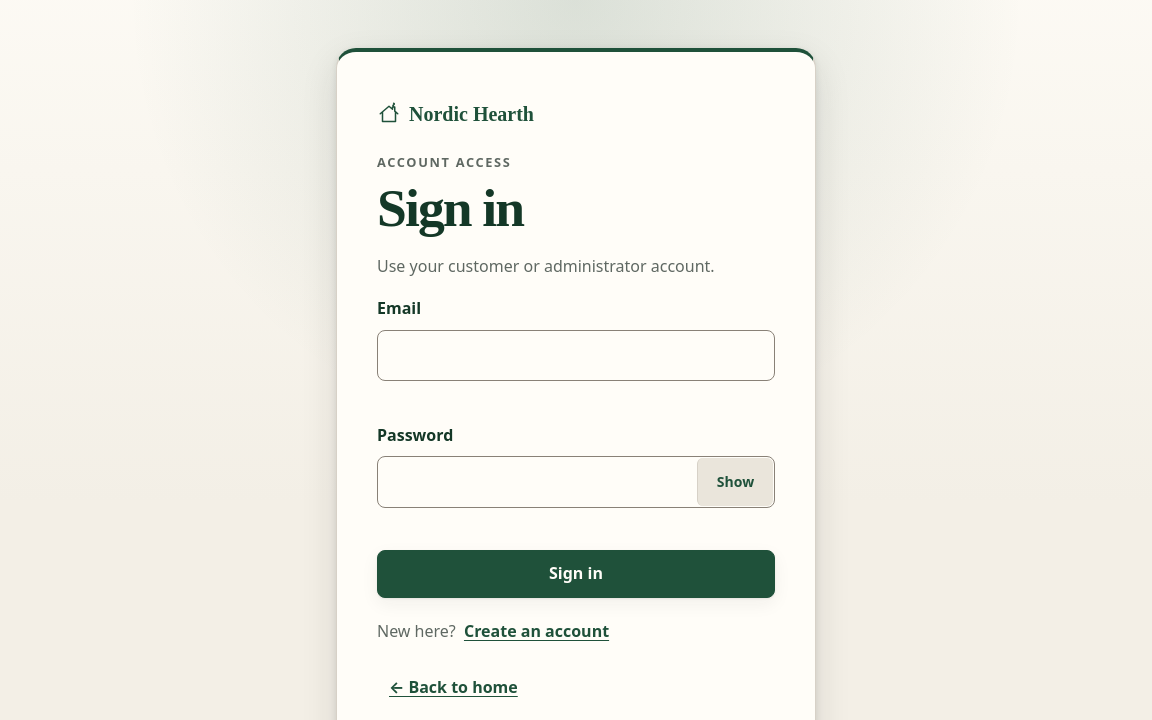
Test case: shared login page › validates required fields and focuses the first invalid control
This screenshot has width=1152, height=720.
Click the button "Sign in" at (576, 574), box x1=377 y1=550 x2=775 y2=598
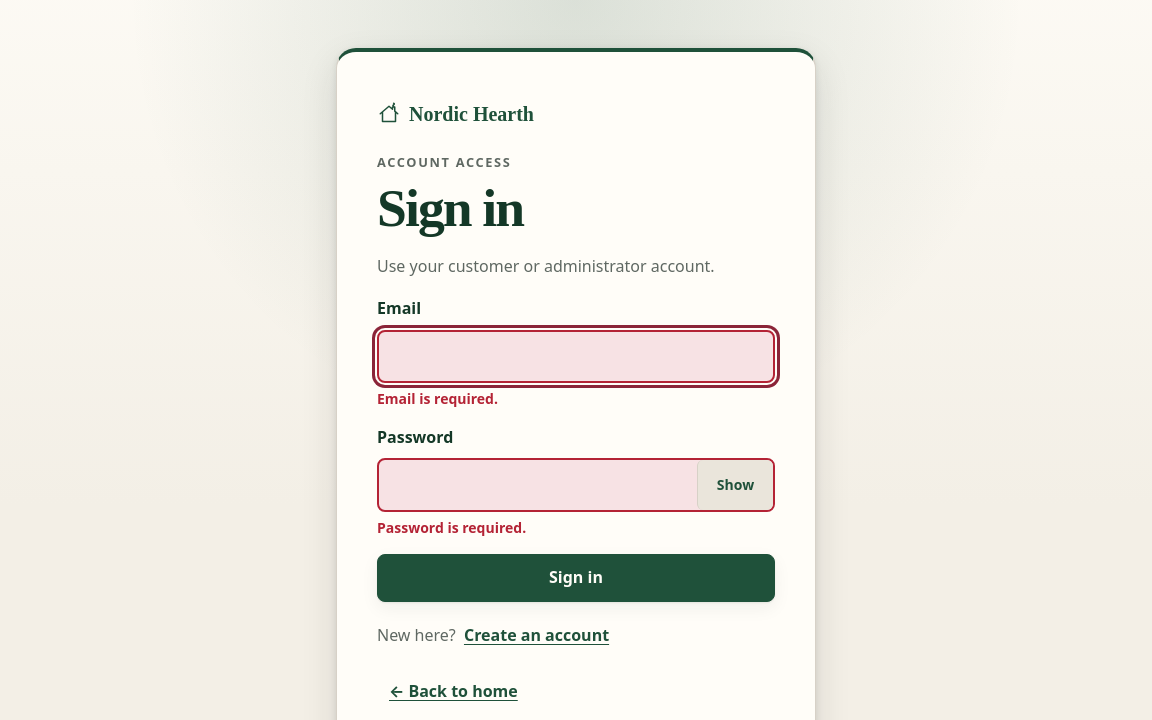
Expected: the text "Email is required." is shown, x1=377 y1=389 x2=498 y2=408
